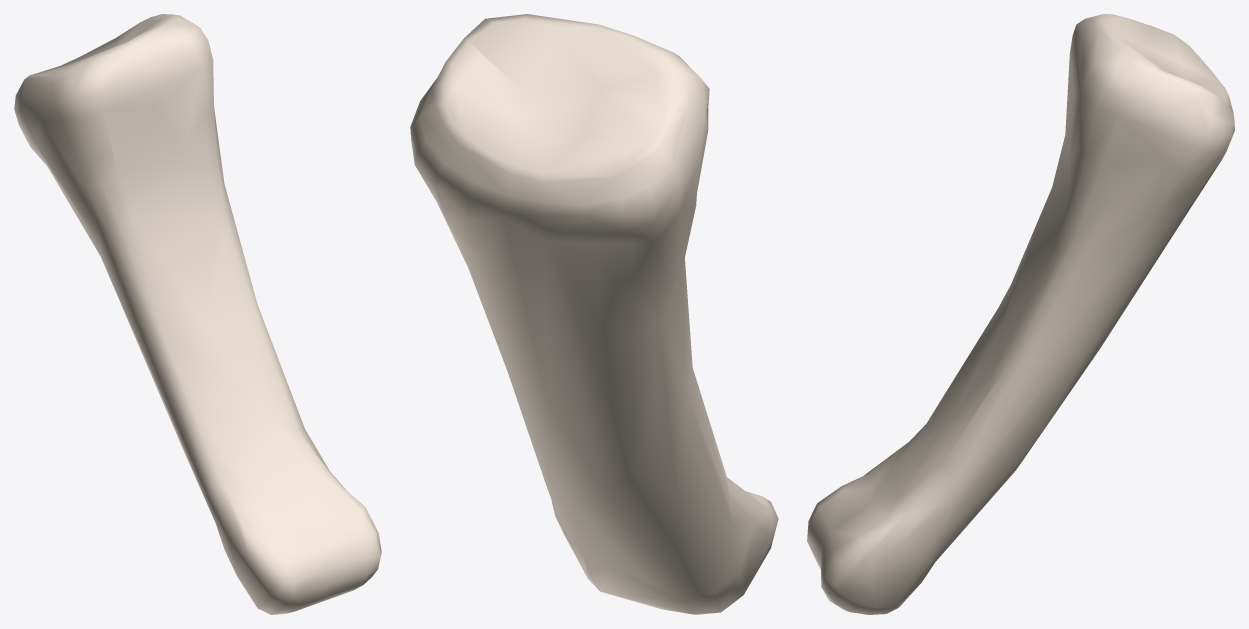
Rendered from left_digit_3_proximal.glb.
The picture shows the model from 3 angles, left to right: view 1: azimuth 30°, elevation 25°; view 2: azimuth 150°, elevation 25°; view 3: azimuth 270°, elevation 25°; orthographic projection. The views are drawn at different scales.
Visible parts, largest first — view 1: Proximal phalanx of 3rd finger.r; view 2: Proximal phalanx of 3rd finger.r; view 3: Proximal phalanx of 3rd finger.r.
Boxes of the visible parts, x1,y1,x2,y2 form: Proximal phalanx of 3rd finger.r: (14,14,381,614); Proximal phalanx of 3rd finger.r: (410,14,778,614); Proximal phalanx of 3rd finger.r: (807,14,1234,614).
Size of the model in its own units: 0.0185 by 0.0415 by 0.0298.
